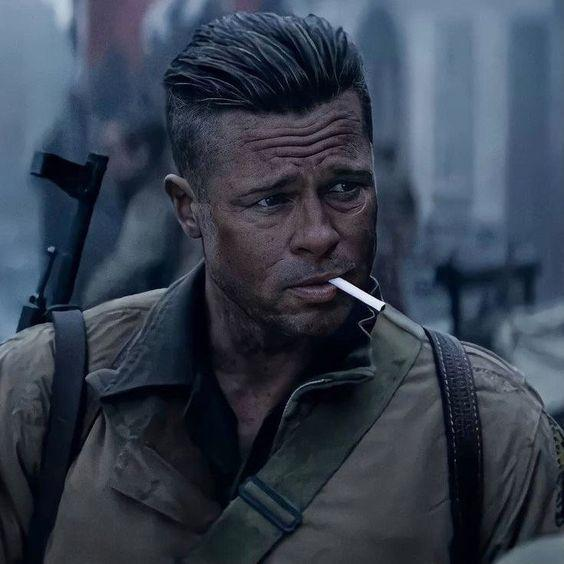cigarette: (327, 277, 386, 312)
